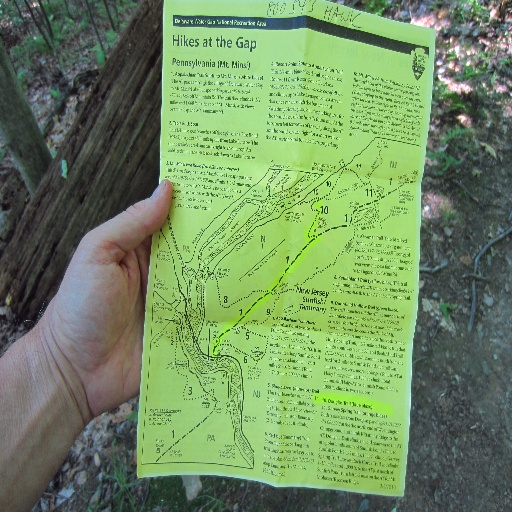hand: (0, 160, 162, 512)
